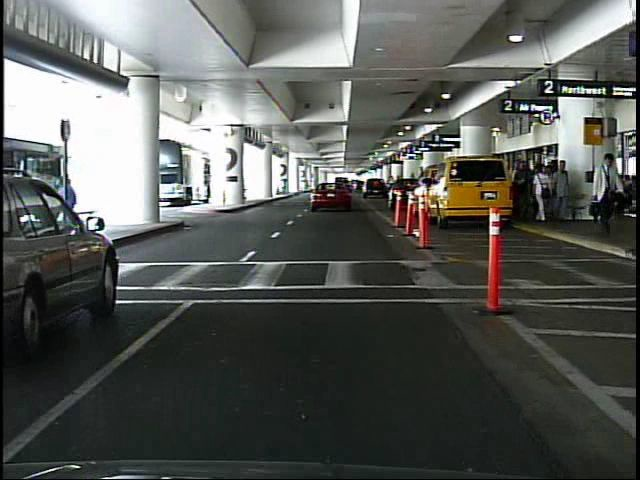person: (588, 152, 626, 234), (550, 159, 572, 223), (534, 160, 553, 225)
